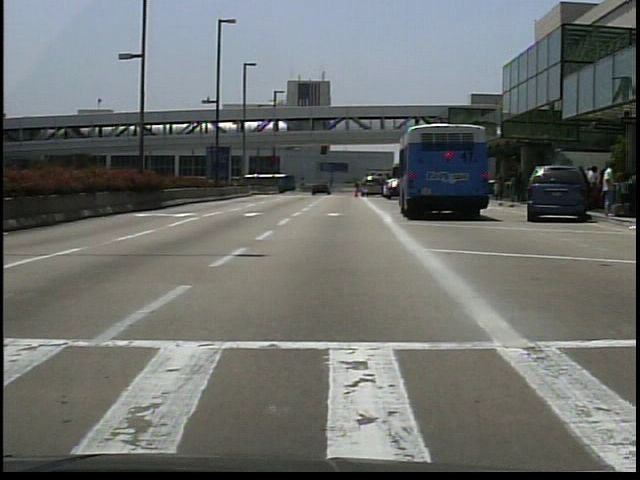person: (598, 162, 619, 218), (597, 165, 612, 211), (515, 168, 528, 204), (587, 164, 601, 182), (316, 182, 325, 198)
